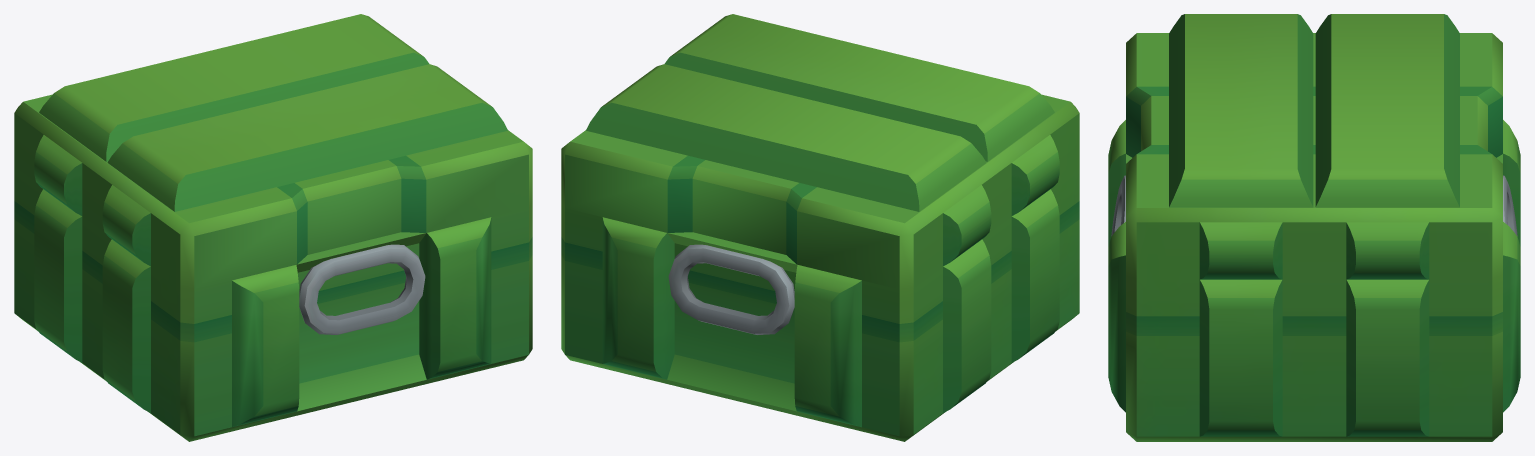
File: containers_crate_small_green.glb
The picture shows the model from 3 angles, left to right: view 1: azimuth 30°, elevation 25°; view 2: azimuth 150°, elevation 25°; view 3: azimuth 270°, elevation 25°; orthographic projection. The views are drawn at different scales.
Visible parts, largest first — view 1: Containers_Crate_Small_Green; view 2: Containers_Crate_Small_Green; view 3: Containers_Crate_Small_Green.
Boxes of the visible parts, x1,y1,x2,y2 form: Containers_Crate_Small_Green: [14, 14, 532, 441]; Containers_Crate_Small_Green: [561, 14, 1079, 441]; Containers_Crate_Small_Green: [1108, 14, 1520, 441].
Bounding box in the file's own units: 0.81 × 0.5003 × 0.71.
1 material, 1 textured.
